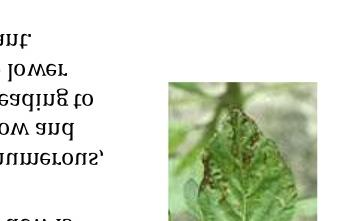Tomato leaf bacterial spot: (197, 98, 297, 221)
